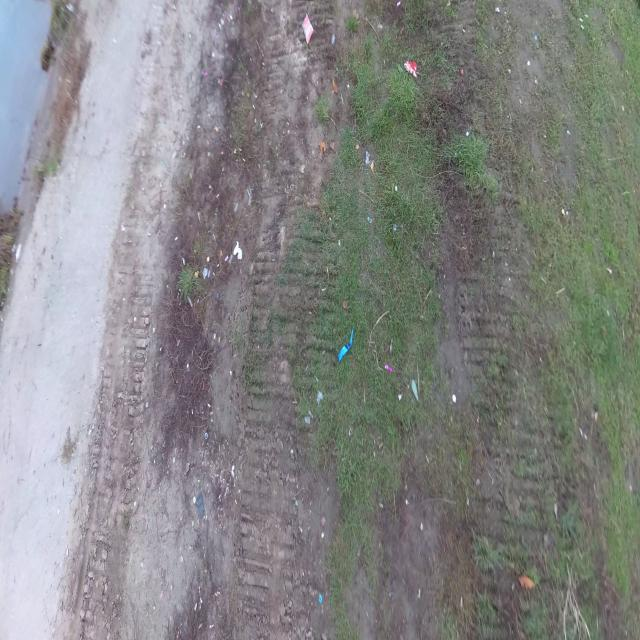rubbish: (337, 322, 354, 363), (301, 11, 315, 47), (194, 491, 206, 522), (402, 59, 417, 77)
